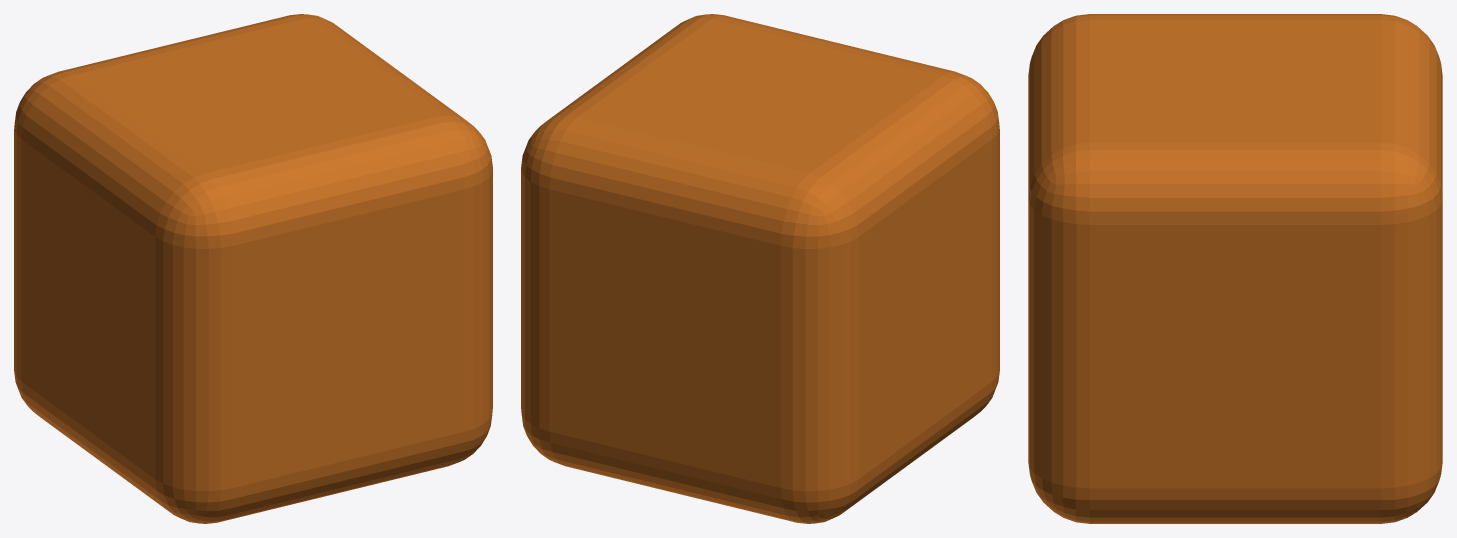
3 renders of one model, left to right at view 1: azimuth 30°, elevation 25°; view 2: azimuth 150°, elevation 25°; view 3: azimuth 270°, elevation 25°, orthographic. The views are drawn at different scales.
Visible parts, largest first — view 1: Cube.002; view 2: Cube.002; view 3: Cube.002.
Part boxes in pixels (x1,y1,x2,y2): Cube.002: (14,14,492,523); Cube.002: (521,14,999,523); Cube.002: (1028,14,1442,523).
Bounding box in the file's own units: 0.5 × 0.5 × 0.5.
